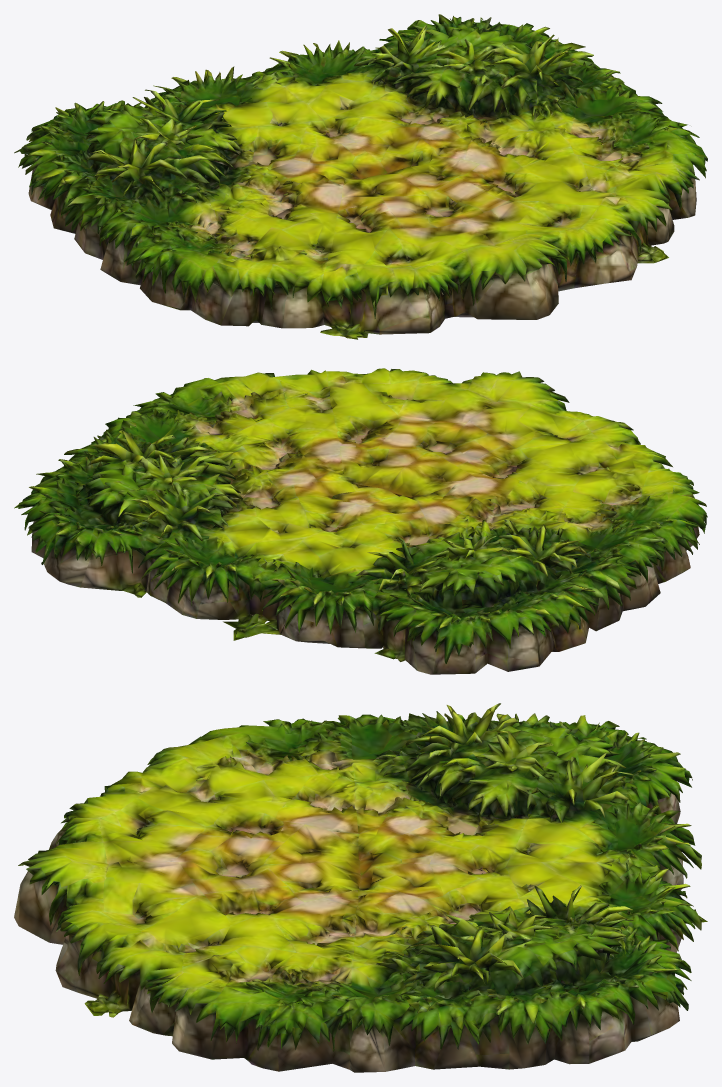
3 views of the same model, one above another, from view 1: azimuth 30°, elevation 25°; view 2: azimuth 150°, elevation 25°; view 3: azimuth 270°, elevation 25° (orthographic). The views are drawn at different scales.
Bounding box in the file's own units: 1.9 × 0.2612 × 1.77.
Materials: 1 (1 with a texture image).
